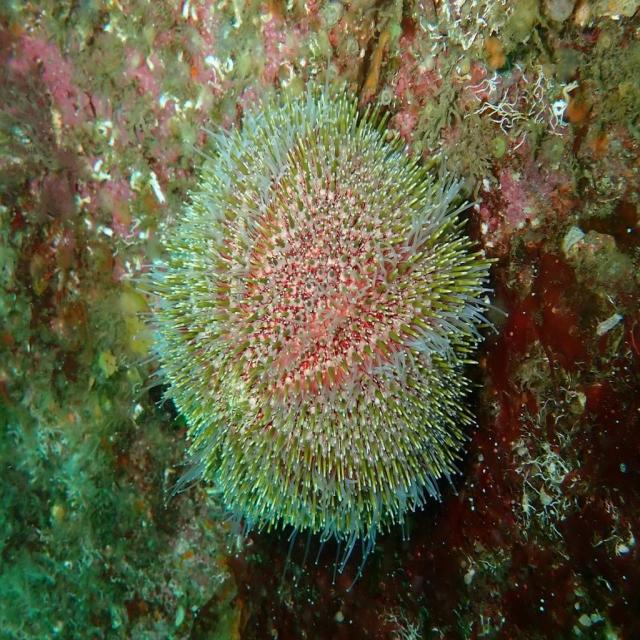Deniz Kestanesi: (120, 52, 510, 594)
